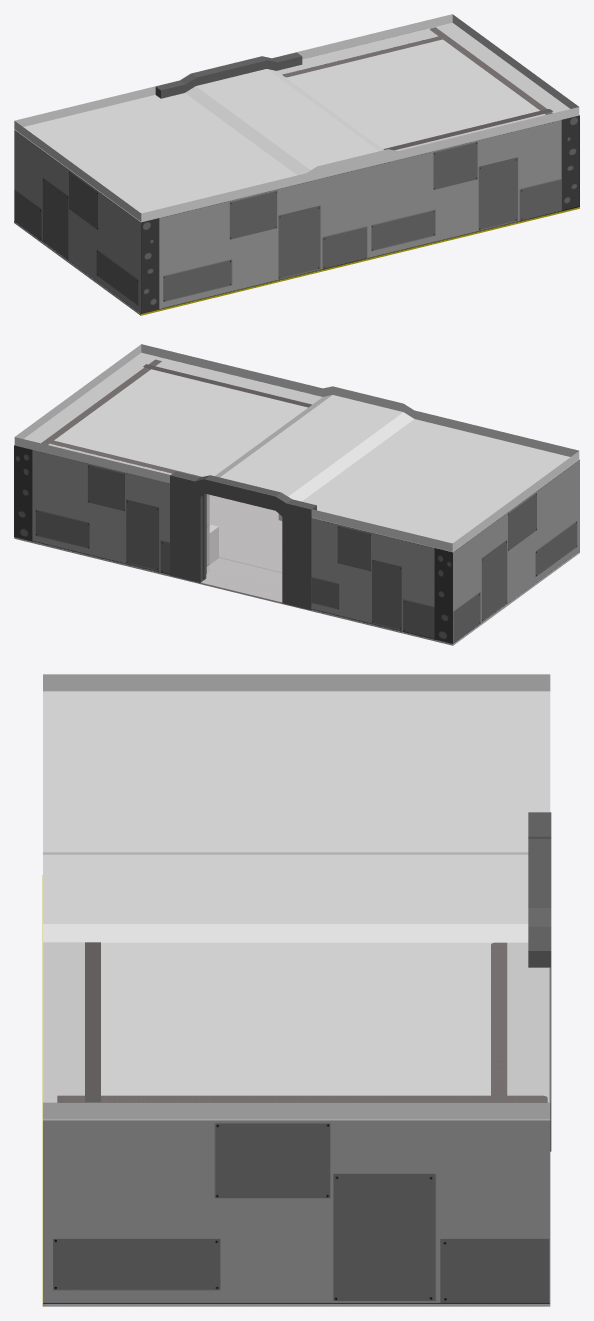
Rendered from medbay.glb.
3 renders of one model, top to bottom at view 1: azimuth 30°, elevation 25°; view 2: azimuth 150°, elevation 25°; view 3: azimuth 270°, elevation 25°, orthographic. The views are drawn at different scales.
Parts seen in each view (by area): view 1: ceiling.001, Cube.046, Cube.059, Cube.030, Cube.029, door.002, Cube.037, Cube.015, Cube.017, Cube.058, Cube.036; view 2: ceiling.001, Cube.030, Cube.037, Cube.044, door.002, Cube.015, Cube.029, Cube.059, Cube.036, Cube.017, Cube.058; view 3: ceiling.001, Cube.029, Cube.059, Cube.037, door.002, Cube.017, Cube.058, Cube.015, Cube.036.
Part boxes in pixels (<box>): ceiling.001: <box>14,14,579,221</box>; Cube.046: <box>159,167,367,309</box>; Cube.059: <box>367,114,561,258</box>; Cube.030: <box>14,129,159,313</box>; Cube.029: <box>435,22,579,211</box>; door.002: <box>155,52,302,98</box>; Cube.037: <box>277,27,438,74</box>; Cube.015: <box>14,207,579,315</box>; Cube.017: <box>430,27,552,114</box>; Cube.058: <box>383,109,552,150</box>; Cube.036: <box>282,35,448,77</box>; ceiling.001: <box>14,344,579,551</box>; Cube.030: <box>434,459,579,643</box>; Cube.037: <box>32,444,206,574</box>; Cube.044: <box>311,518,434,639</box>; door.002: <box>170,471,316,610</box>; Cube.015: <box>14,495,579,645</box>; Cube.029: <box>14,353,158,541</box>; Cube.059: <box>156,357,322,404</box>; Cube.036: <box>43,439,209,572</box>; Cube.017: <box>41,359,161,444</box>; Cube.058: <box>143,364,311,407</box>; ceiling.001: <box>43,674,550,1119</box>; Cube.029: <box>43,1102,550,1303</box>; Cube.059: <box>43,942,84,1102</box>; Cube.037: <box>507,942,549,1102</box>; door.002: <box>528,812,551,1151</box>; Cube.017: <box>57,1095,547,1102</box>; Cube.058: <box>85,942,100,1102</box>; Cube.015: <box>42,875,550,1306</box>; Cube.036: <box>491,942,506,1096</box>.
Size of the model in its own units: 12.4 by 2.87 by 6.21.
Materials: 10 (3 with a texture image).
